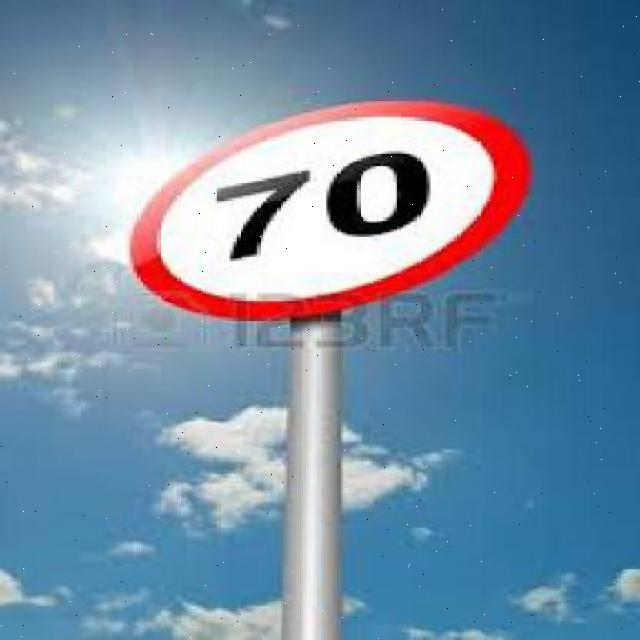speed limit 70: (127, 102, 532, 318)
